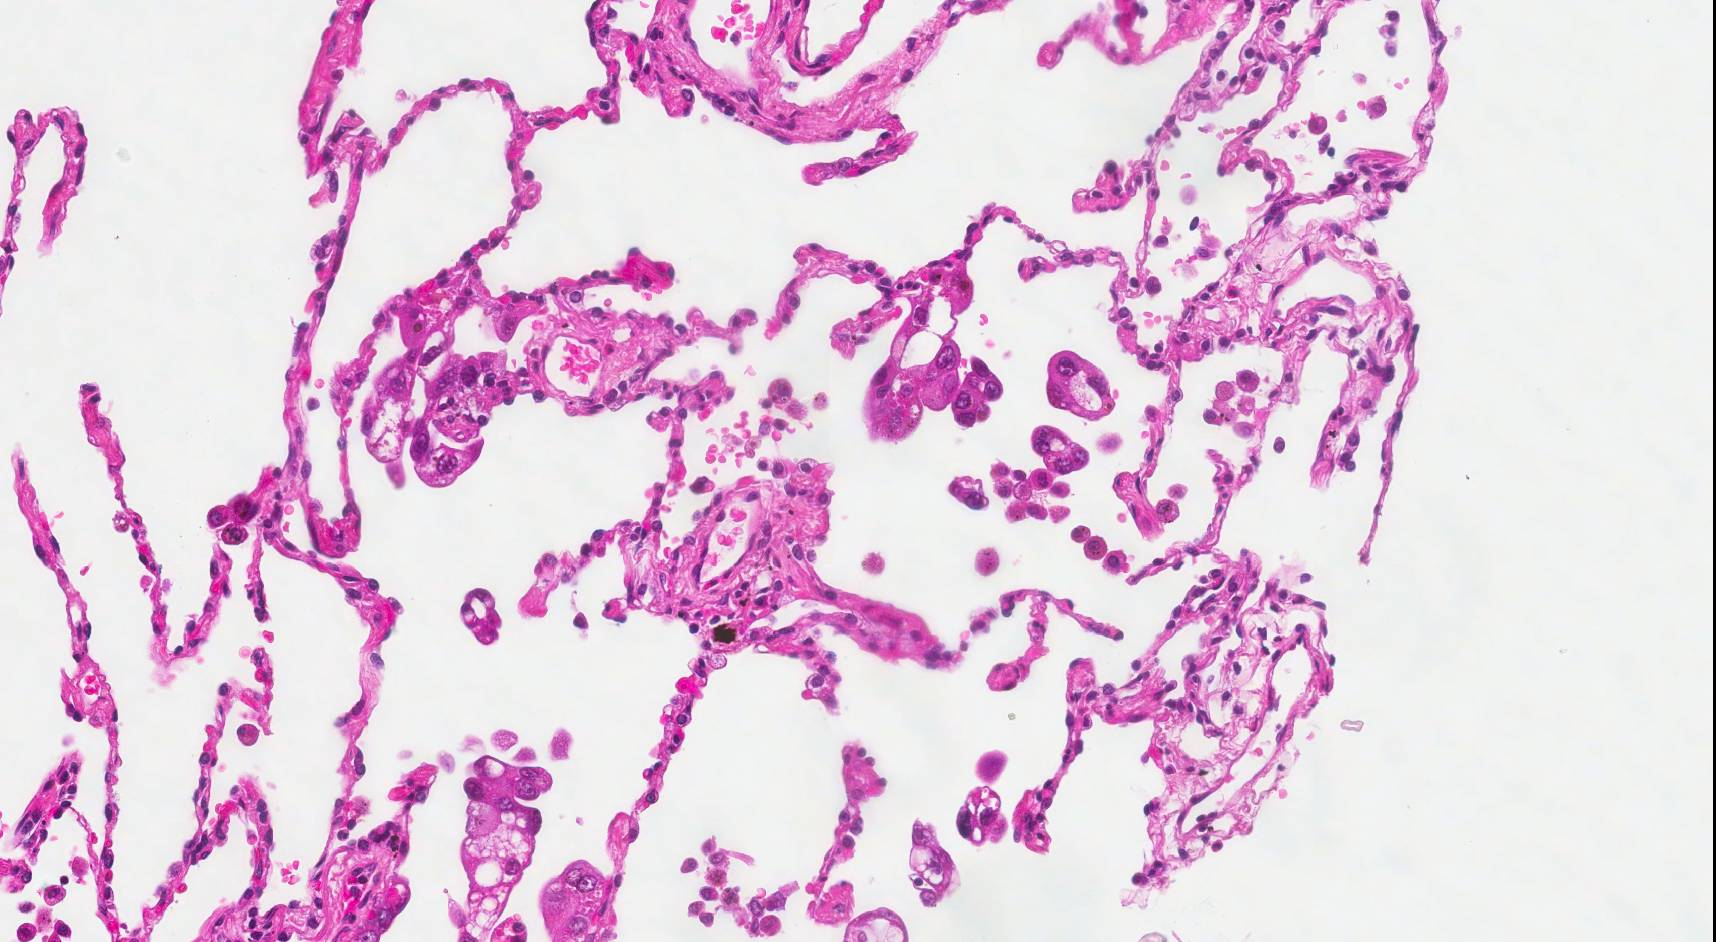stas: (357, 343, 531, 493), (457, 745, 553, 942), (1044, 346, 1116, 421), (906, 820, 965, 911), (952, 357, 1005, 428), (1025, 422, 1091, 478), (958, 783, 1009, 849), (455, 587, 509, 647), (946, 468, 993, 513)
